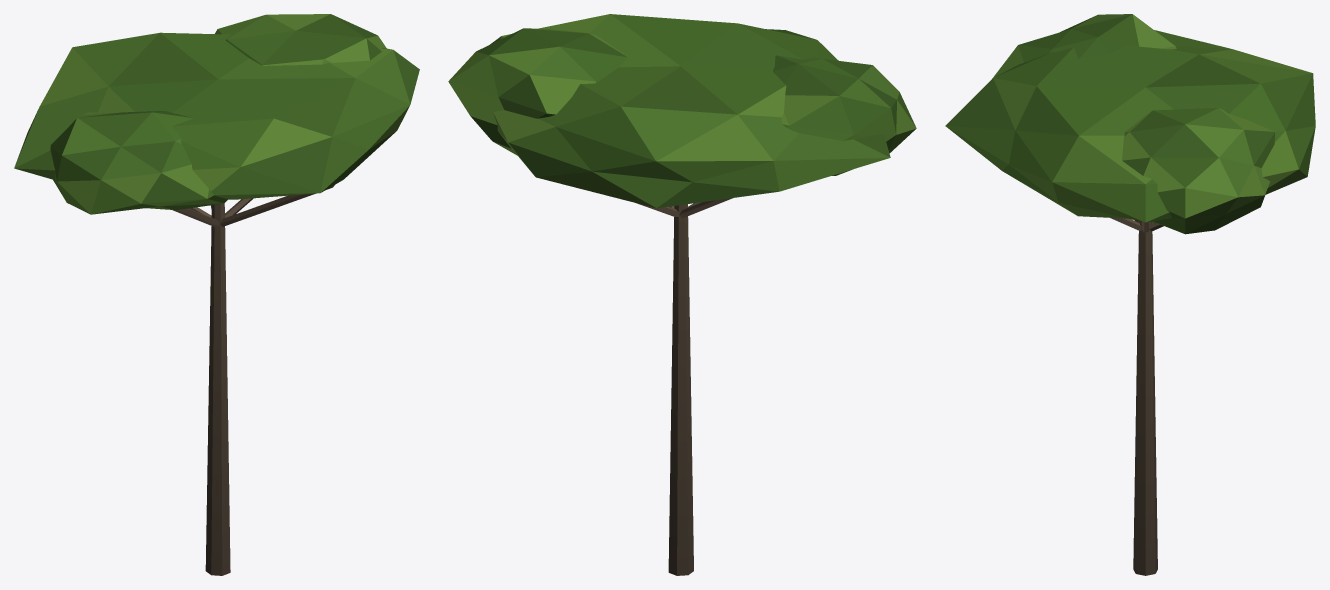
File: fr_tree_b.glb
3 renders of one model, left to right at view 1: azimuth 30°, elevation 25°; view 2: azimuth 150°, elevation 25°; view 3: azimuth 270°, elevation 25°, orthographic. The views are drawn at different scales.
Parts seen in each view (by area): view 1: fr_tree_b; view 2: fr_tree_b; view 3: fr_tree_b.
Boxes of the visible parts, box(x1,y1,x2,y2) form: fr_tree_b: box(14, 14, 419, 575); fr_tree_b: box(448, 14, 916, 575); fr_tree_b: box(945, 14, 1315, 575).
Size of the model in its own units: 11.65 by 13.75 by 9.37.
